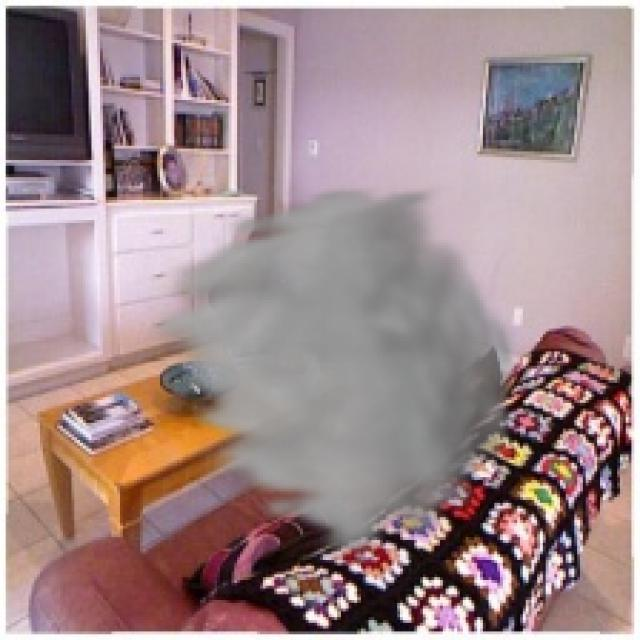Smoke: (137, 183, 526, 560)
